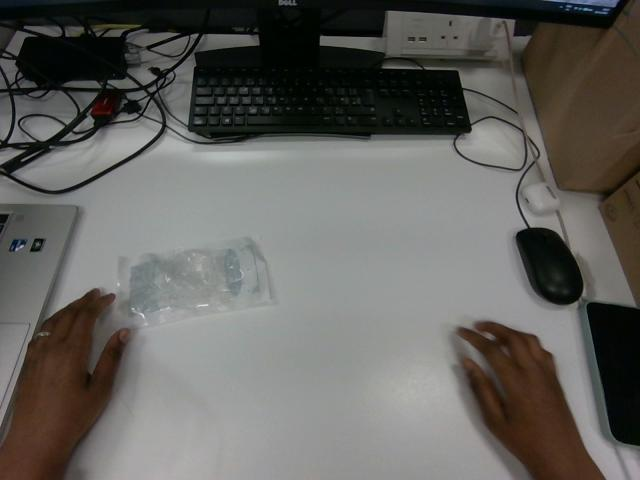gallipot: (116, 237, 270, 327)
